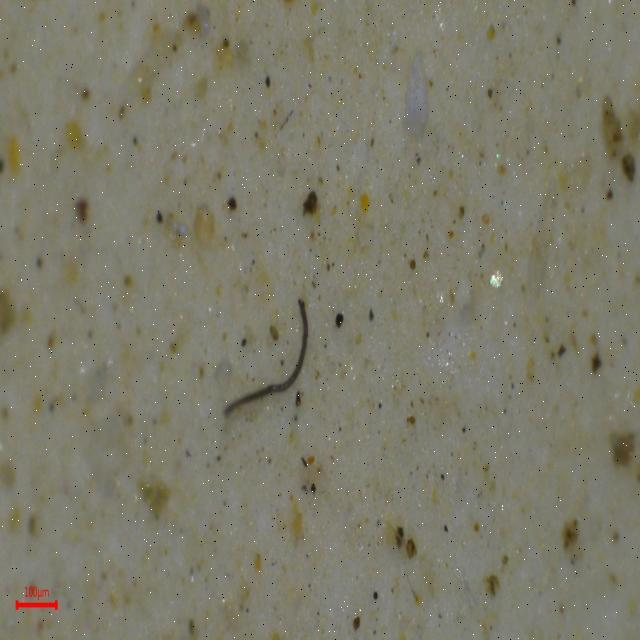fibers: (223, 289, 329, 436)
